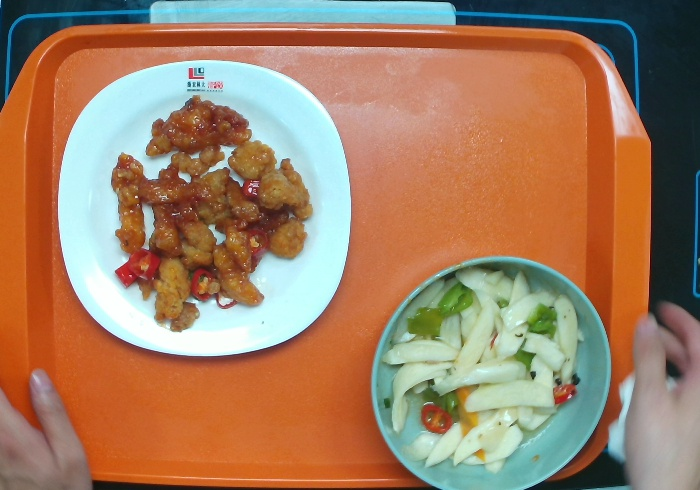ZNLD-Qing_Hua_Yuan_Wan: (367, 243, 619, 490)
ZNLD-Yuan_Jiao_Pan: (38, 46, 367, 369)
